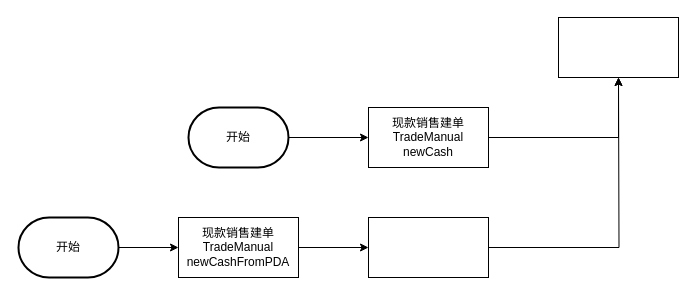
Some shapes in this 696 by 296 pixel diagram are drawn without their labels. Here are the shapes that lost their labels. From the top down, the centre of each, then its label:
At [618,47]: "现款销售 建单 TradeManualService newCash".
At [428,247]: "pda选货开单-现场拿货 TradeManualService newCashFromPDA".
